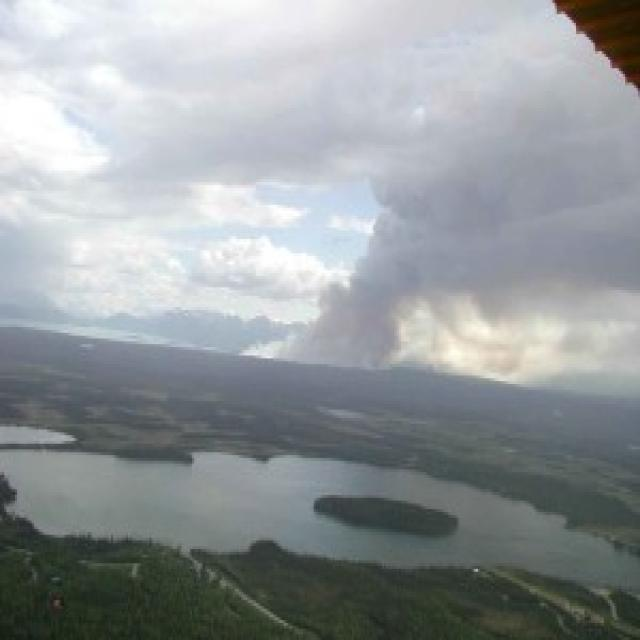Smoke: (324, 94, 640, 380)
